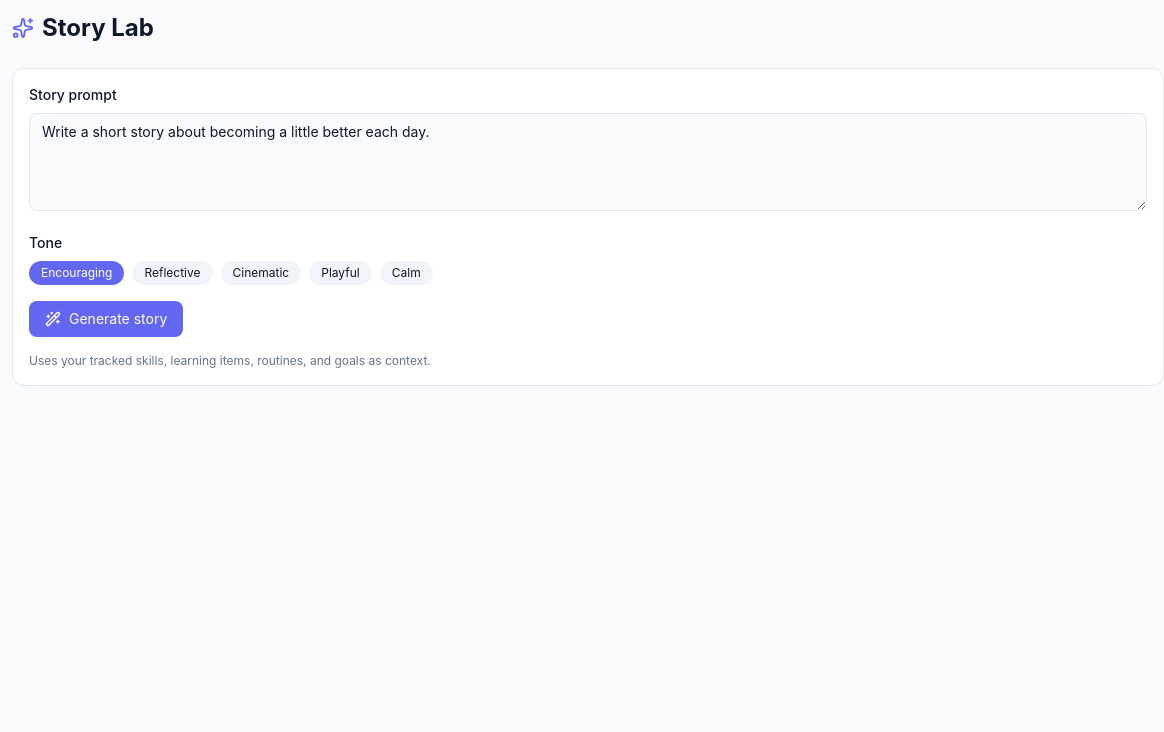
Test case: StoryPage › generates and displays a story
Click the button "Generate story" at [106, 319], box x1=29 y1=301 x2=183 y2=337
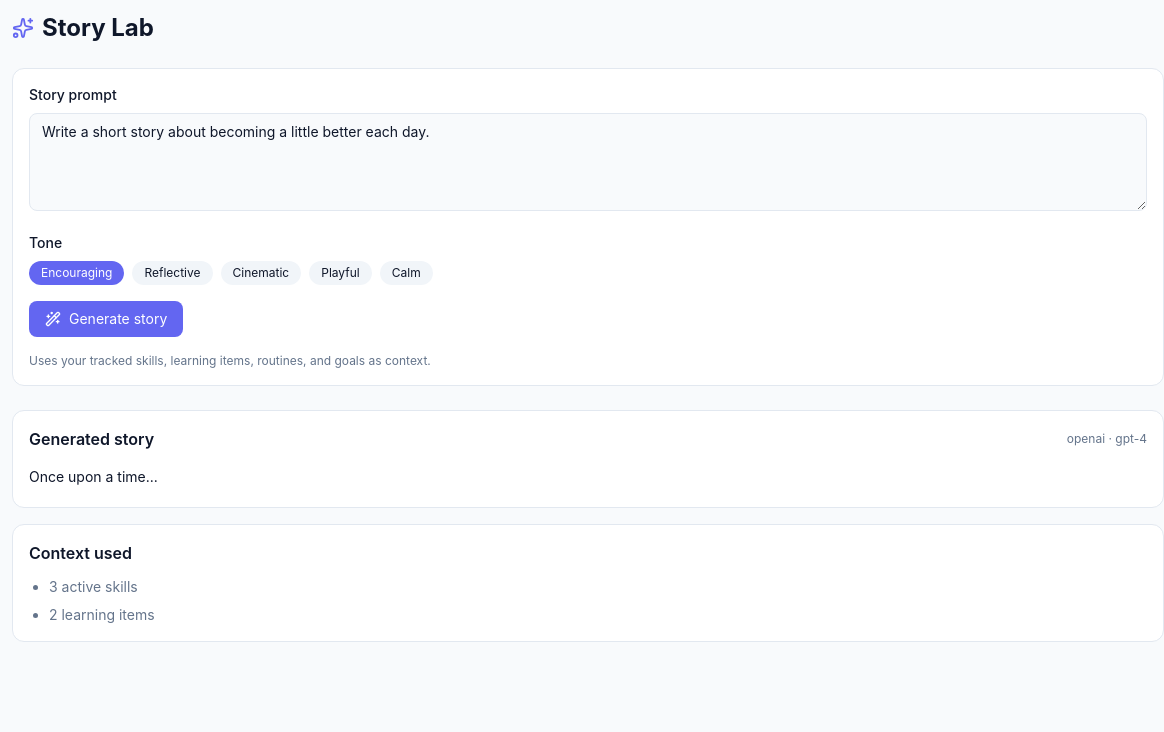
Now the text "Once upon a time..." is shown, box x1=29 y1=468 x2=158 y2=485
Now the heading "Generated story" is shown, box x1=29 y1=427 x2=154 y2=451
Now the heading "Context used" is shown, box x1=29 y1=543 x2=132 y2=563
